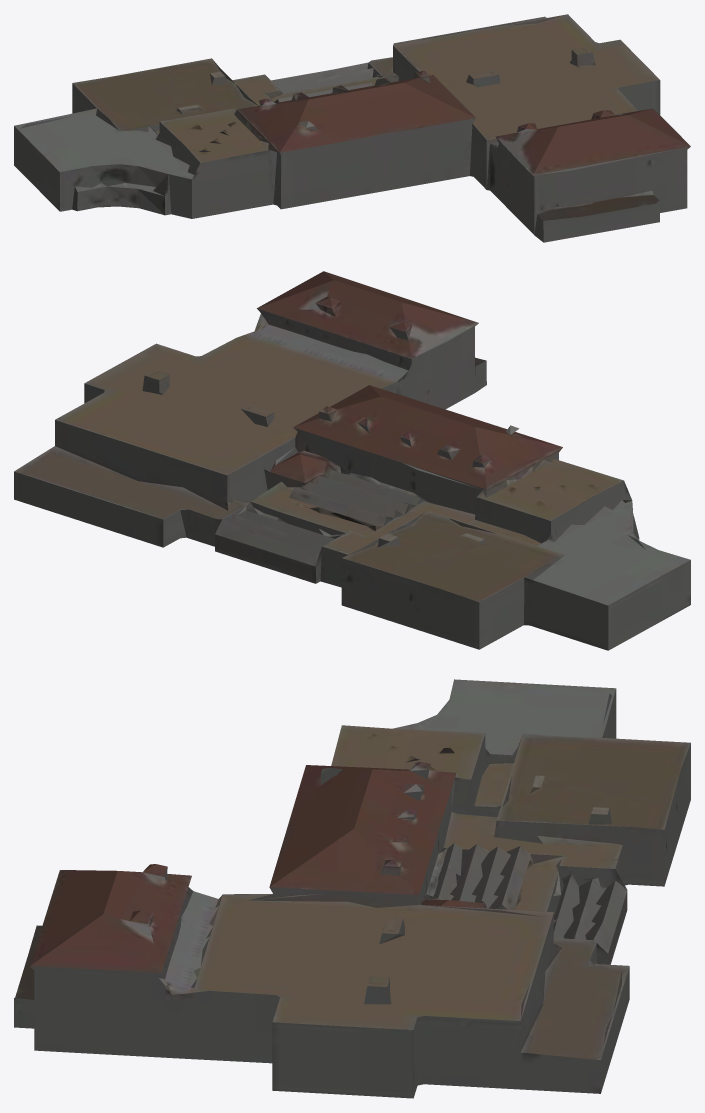
Rendered from t_3_-2.coat.glb.
The picture shows the model from 3 angles, top to bottom: view 1: azimuth 30°, elevation 25°; view 2: azimuth 150°, elevation 25°; view 3: azimuth 270°, elevation 25°; orthographic projection. The views are drawn at different scales.
Visible parts, largest first — view 1: far; view 2: far; view 3: far.
Part boxes in pixels (x1=…): far: x1=14, y1=14, x2=690, y2=242; far: x1=14, y1=271, x2=690, y2=650; far: x1=14, y1=679, x2=690, y2=1098.
Size of the model in its own units: 137 by 20.01 by 108.
1 material, 1 textured.
